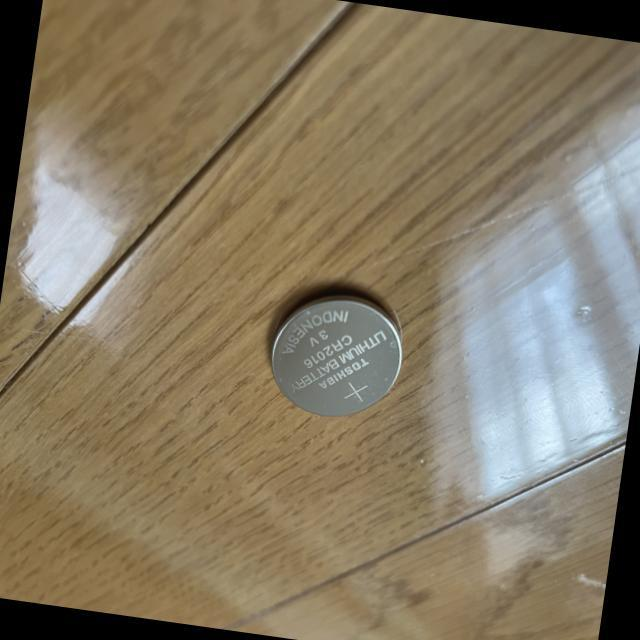COIN: (259, 280, 413, 424)
